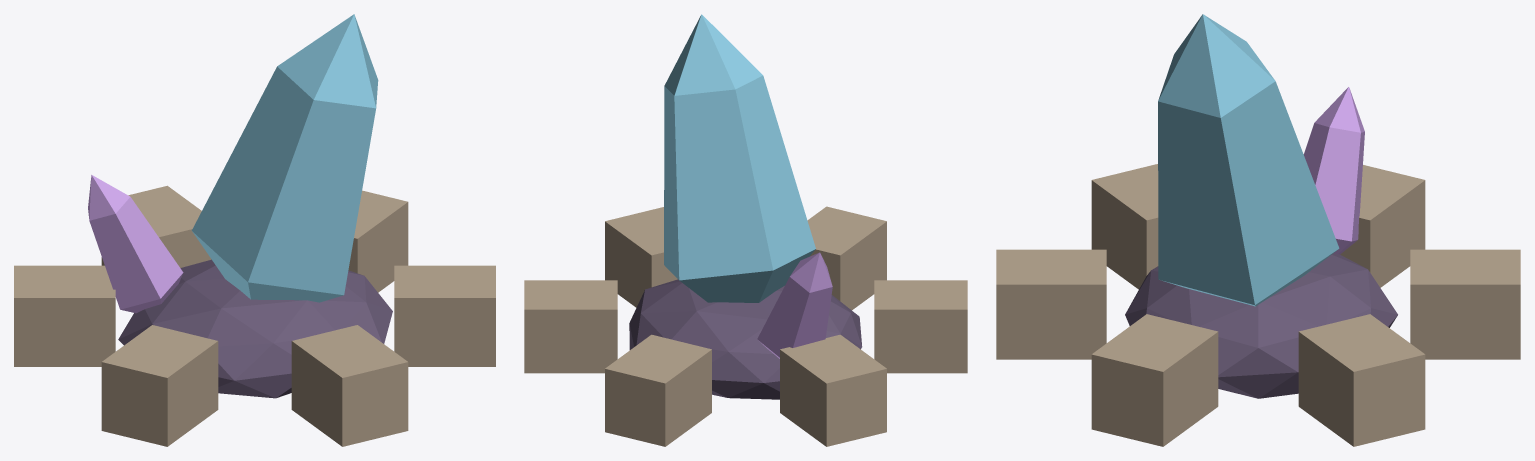
Rendered from cave-g0.glb.
3 views of the same model, side by side, from view 1: azimuth 30°, elevation 25°; view 2: azimuth 150°, elevation 25°; view 3: azimuth 270°, elevation 25° (orthographic). The views are drawn at different scales.
Parts seen in each view (by area): view 1: cave-g0; view 2: cave-g0; view 3: cave-g0.
Part boxes in pixels (x1,y1,x2,y2): cave-g0: [14, 14, 495, 446]; cave-g0: [524, 14, 967, 446]; cave-g0: [996, 14, 1520, 446].
Size of the model in its own units: 0.5458 by 0.4466 by 0.5776.
